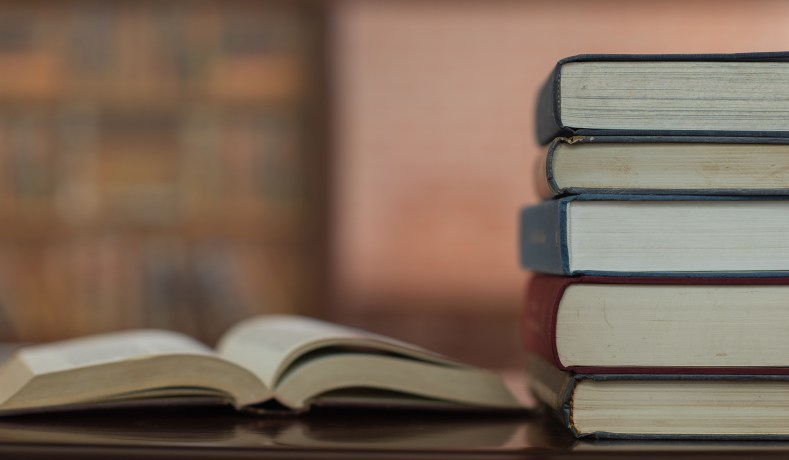Open Book: (8, 325, 518, 425)
